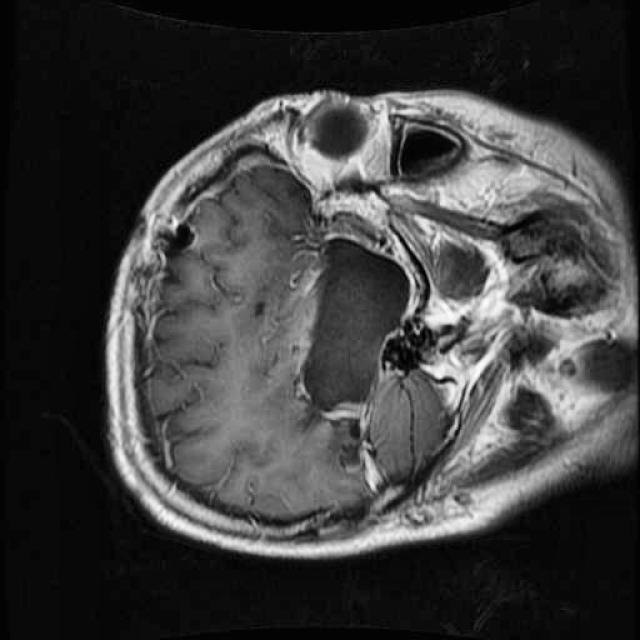Non-Tumor: (286, 206, 422, 444)
